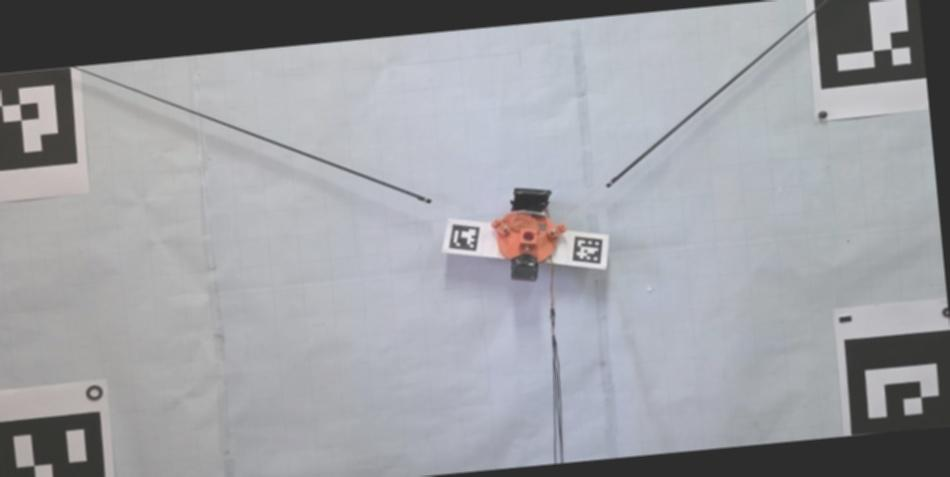robot: (490, 188, 566, 281)
